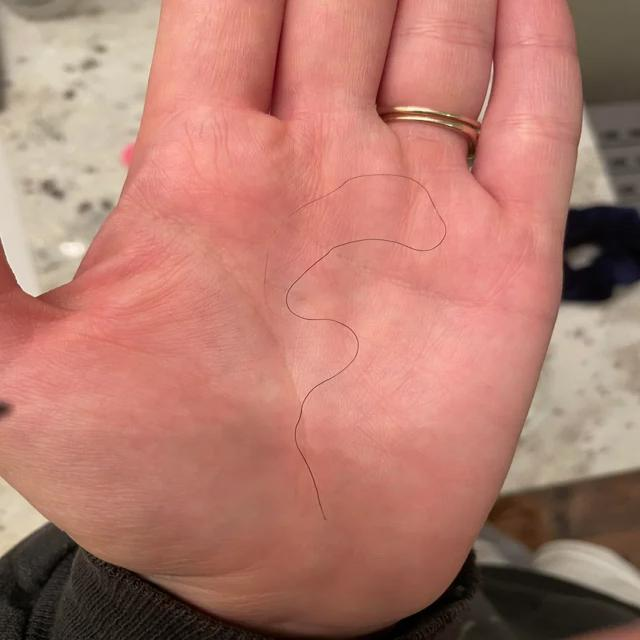hair: (274, 164, 458, 528)
